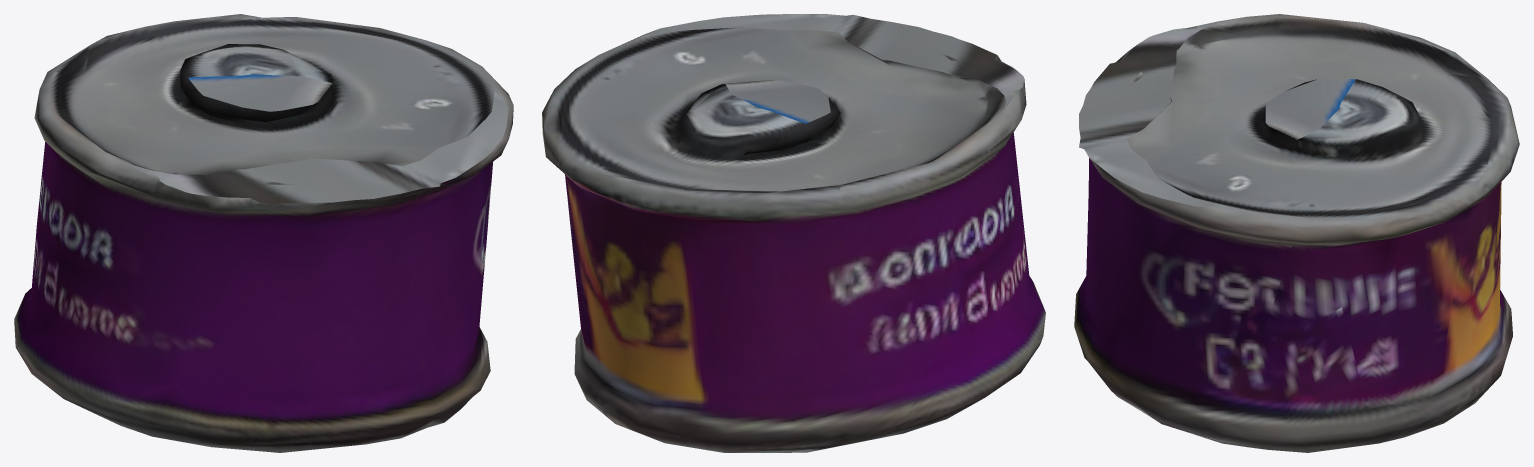
The model's file is Food1.1.fbx.
3 renders of one model, left to right at view 1: azimuth 30°, elevation 25°; view 2: azimuth 150°, elevation 25°; view 3: azimuth 270°, elevation 25°, orthographic. The views are drawn at different scales.
Parts seen in each view (by area): view 1: tripo_node_cc436b14; view 2: tripo_node_cc436b14; view 3: tripo_node_cc436b14.
Part boxes in pixels (<box>): tripo_node_cc436b14: <box>14,14,513,452</box>; tripo_node_cc436b14: <box>542,14,1045,452</box>; tripo_node_cc436b14: <box>1074,14,1519,452</box>.
Bounding box in the file's own units: 14.95 × 9.63 × 14.06.
1 material, 1 textured.
